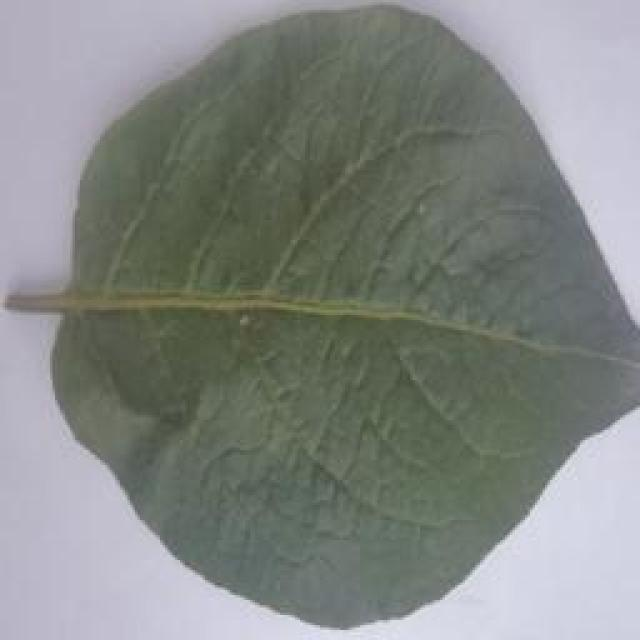Potato_Healthy: (16, 5, 634, 628)
